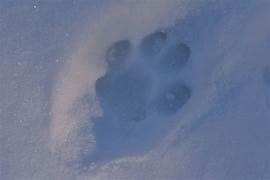lynx: (85, 25, 193, 121)
